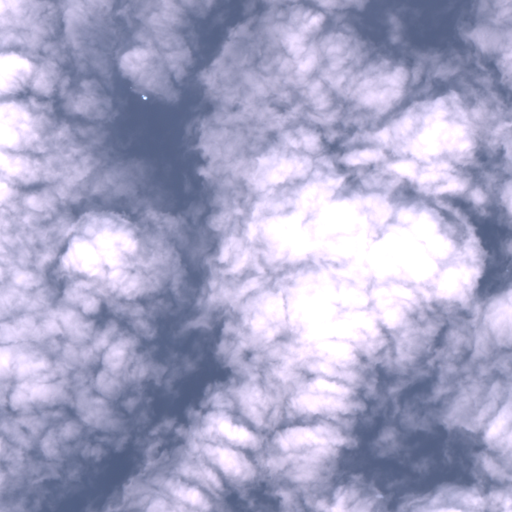Iceberg: (142, 95, 146, 99)
